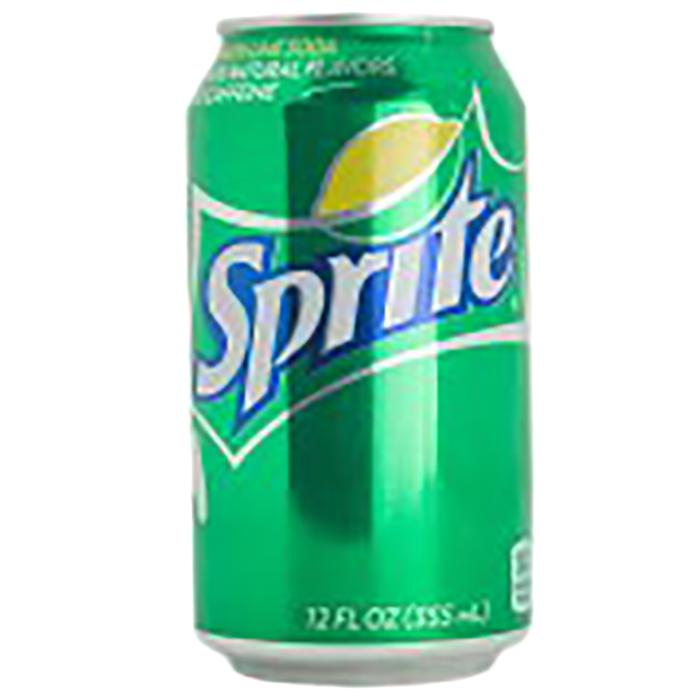Sprite: (170, 11, 546, 684)
